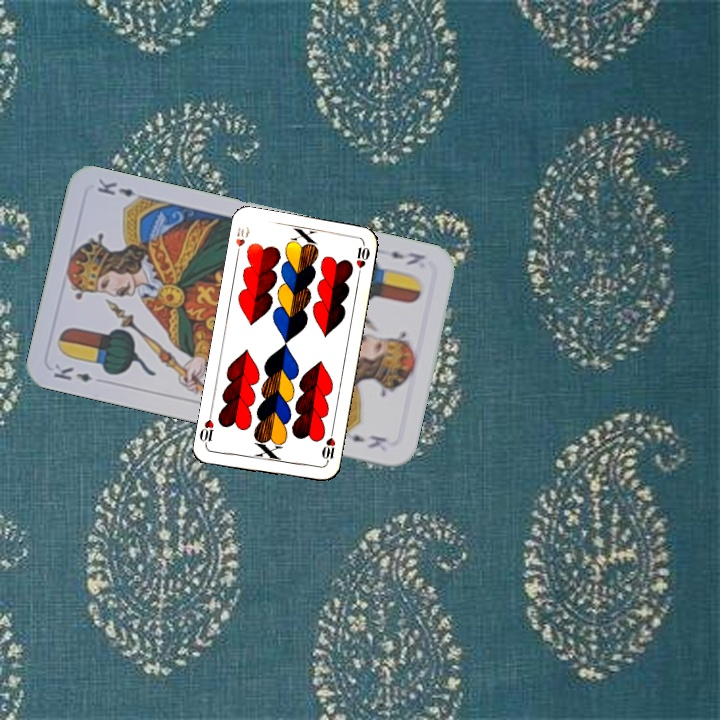EK: (49, 360, 94, 385), (387, 247, 428, 268)
H10: (318, 427, 338, 467), (231, 223, 252, 261)
